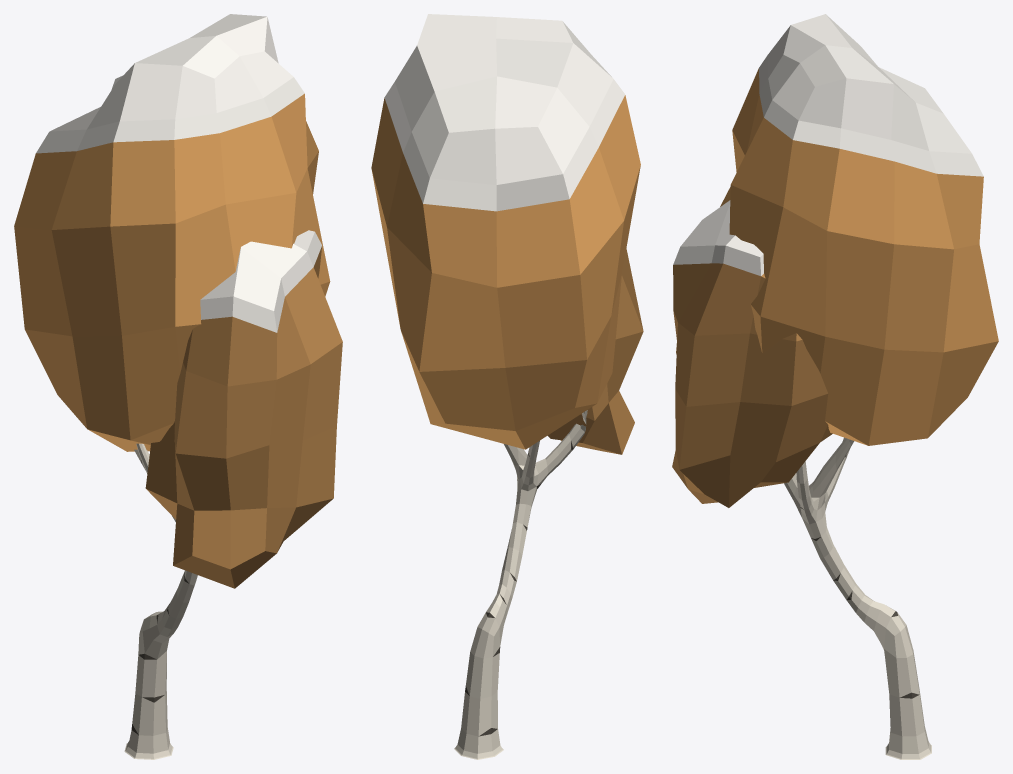
File: BirchTree_Snow_2.glb
3 renders of one model, left to right at view 1: azimuth 30°, elevation 25°; view 2: azimuth 150°, elevation 25°; view 3: azimuth 270°, elevation 25°, orthographic. The views are drawn at different scales.
Parts seen in each view (by area): view 1: BirchTree_Snow_2; view 2: BirchTree_Snow_2; view 3: BirchTree_Snow_2.
Part boxes in pixels (bbox=[...]): BirchTree_Snow_2: bbox=[14, 14, 342, 759]; BirchTree_Snow_2: bbox=[371, 14, 643, 759]; BirchTree_Snow_2: bbox=[672, 14, 998, 759].
Bounding box in the file's own units: 1.47 × 4.09 × 1.69.
